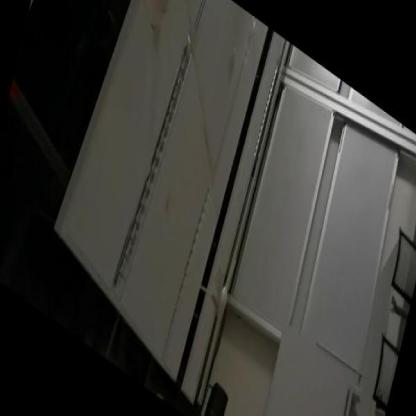light_off: (106, 3, 202, 312), (158, 168, 215, 358)
